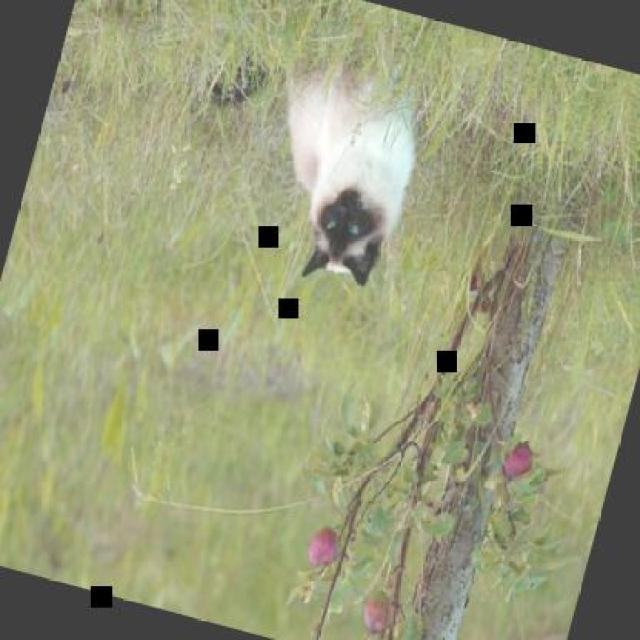cat: (174, 34, 434, 298)
